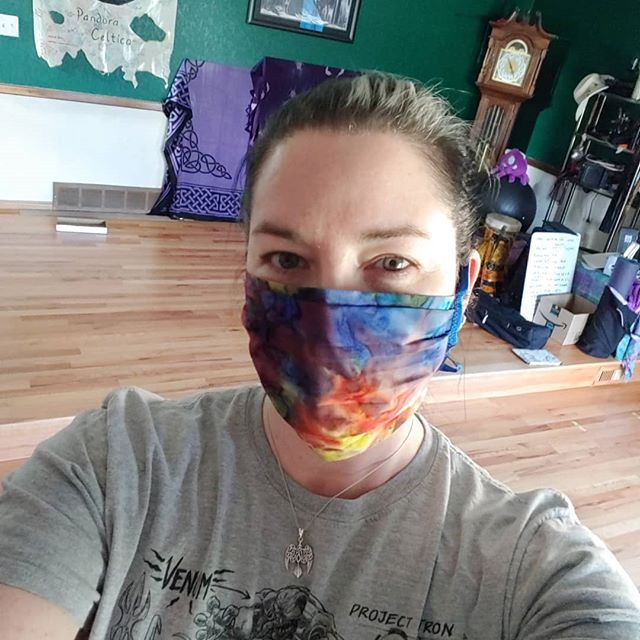homemade: (235, 269, 466, 460)
